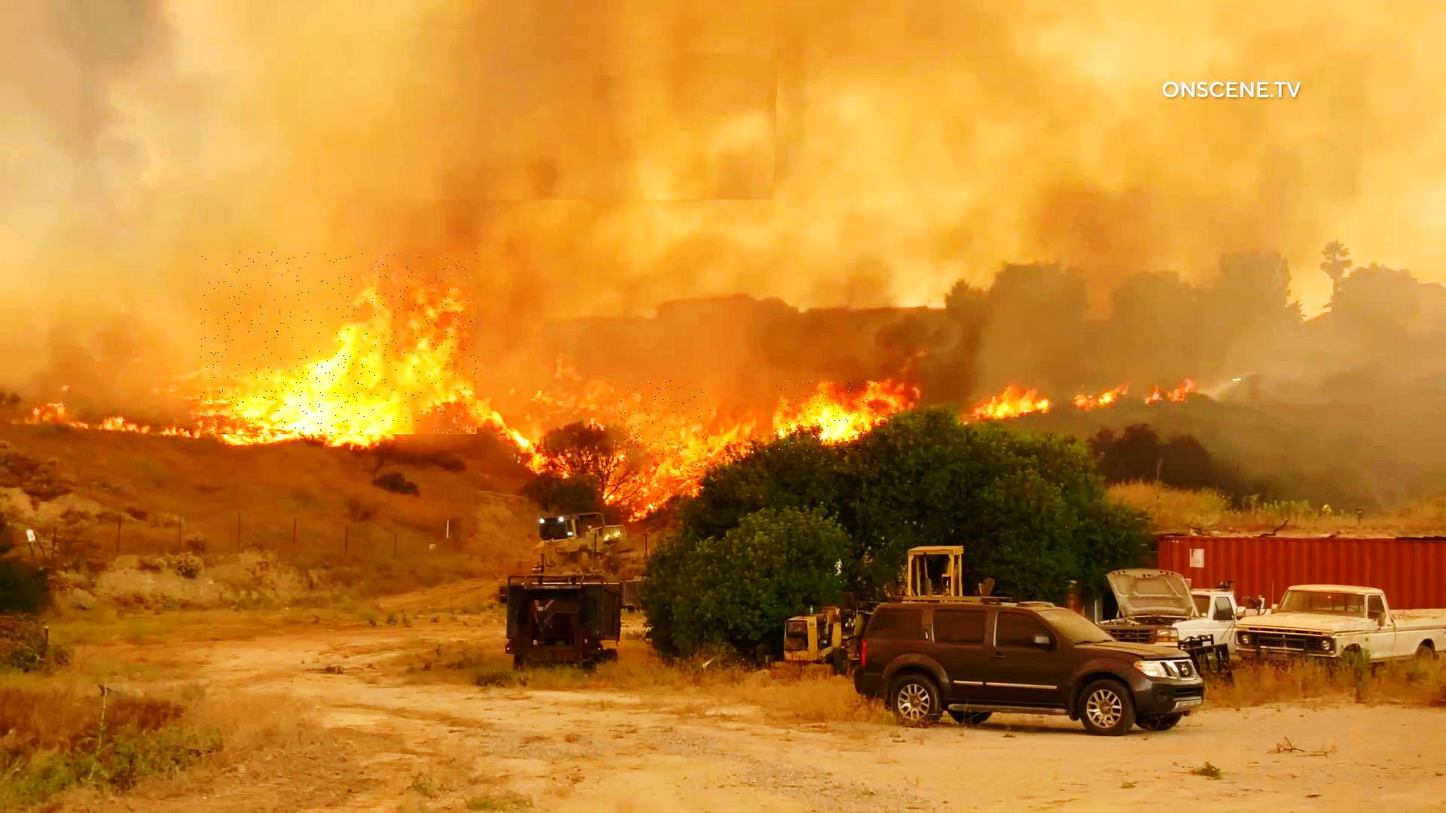fire: (201, 253, 479, 437), (614, 381, 710, 482), (773, 381, 887, 453)
smoke: (299, 15, 780, 200)
